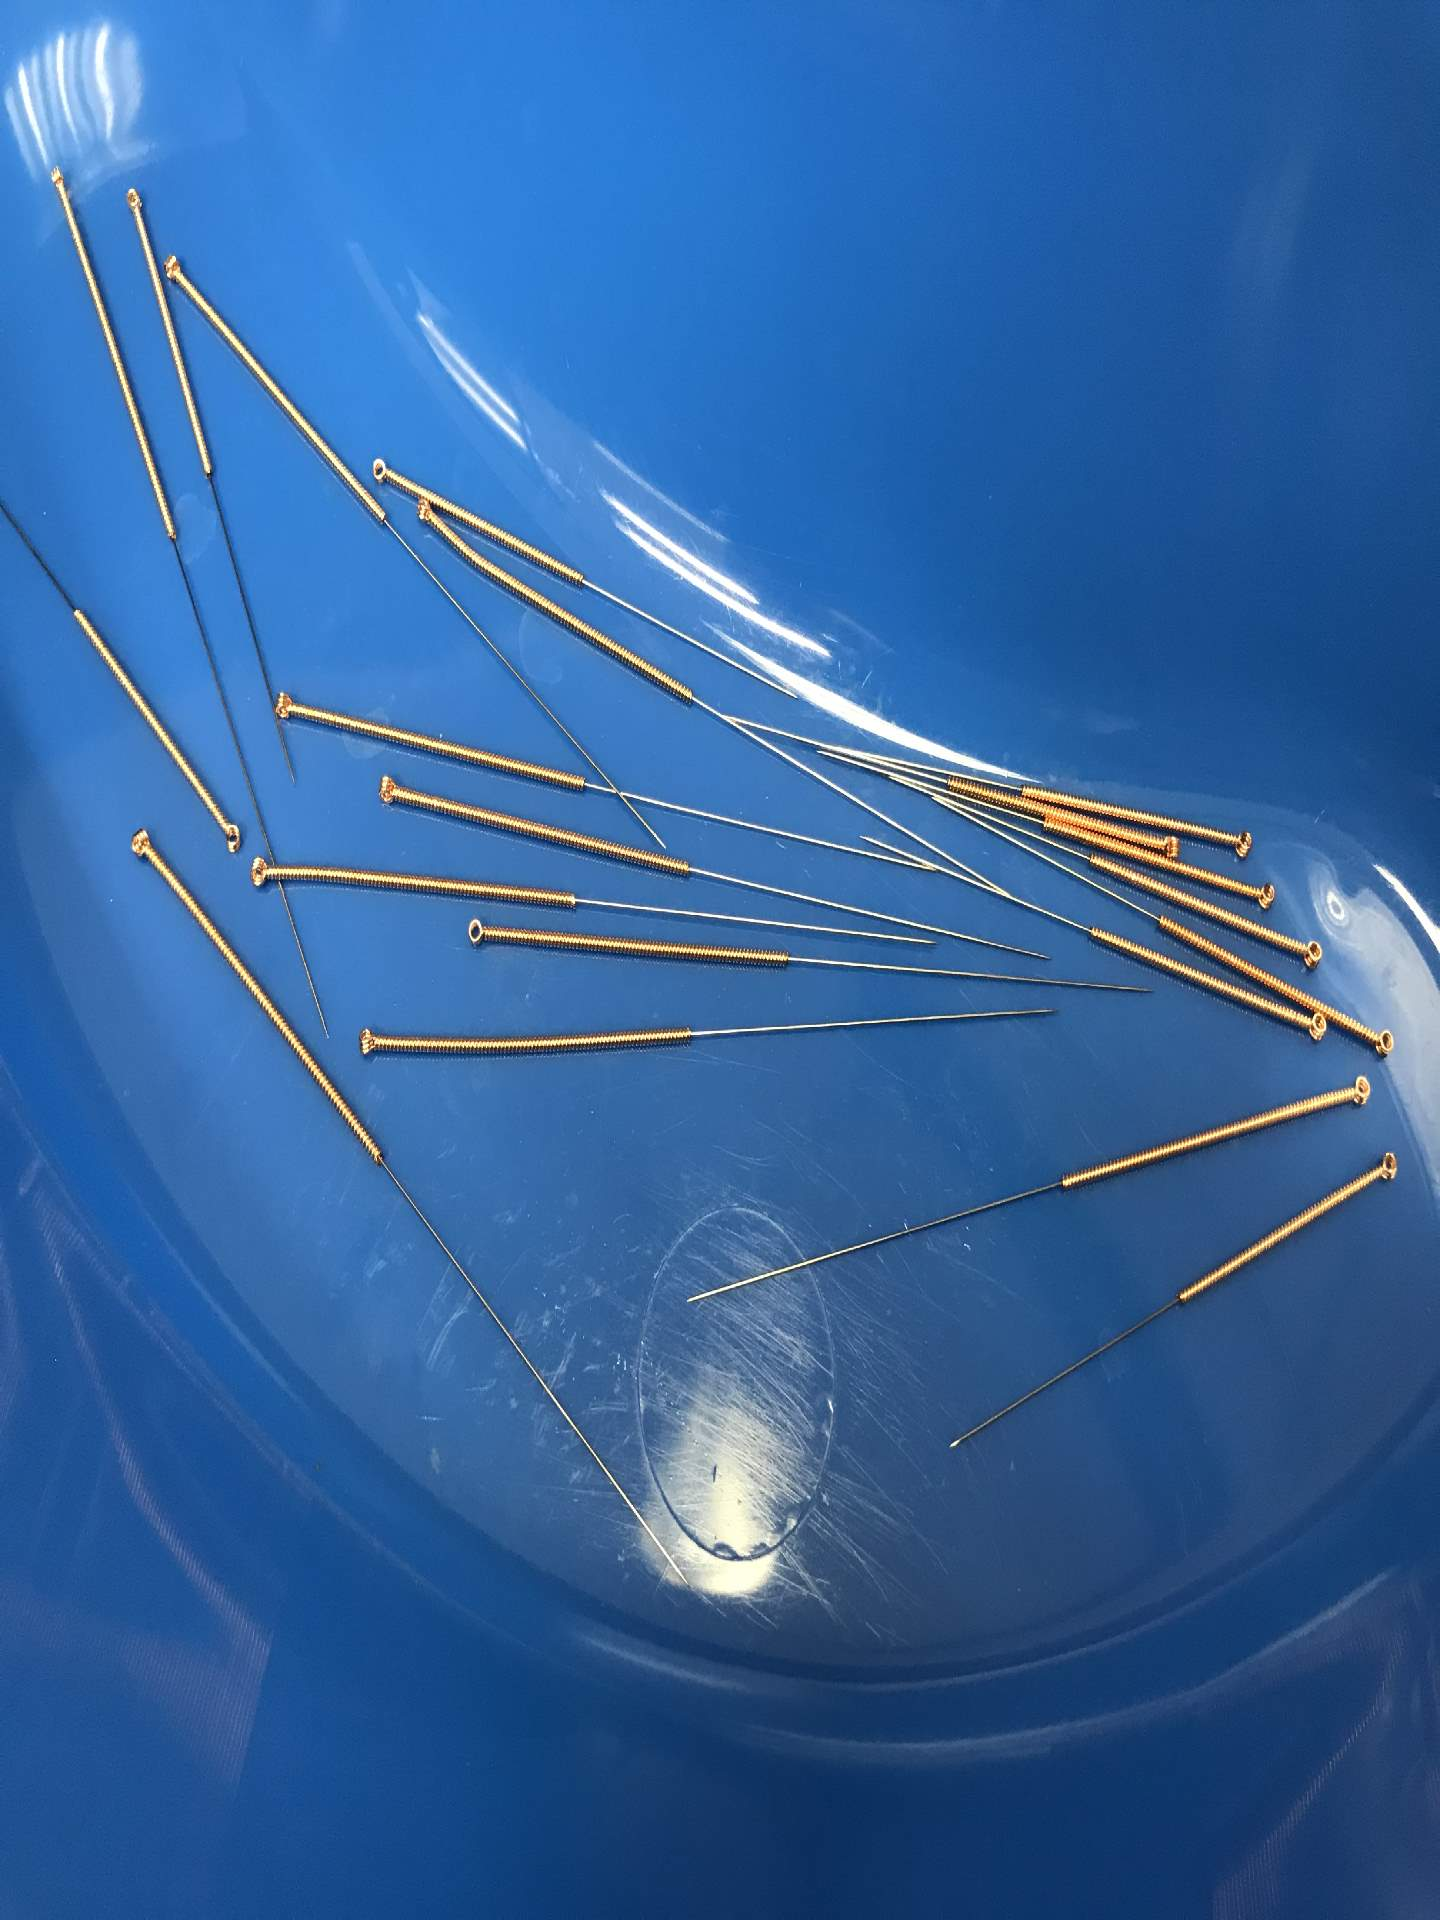needle: (455, 909, 501, 957), (121, 818, 162, 871), (366, 766, 410, 815), (237, 851, 284, 895), (346, 1019, 390, 1066), (1337, 1066, 1381, 1113), (265, 685, 307, 732), (1364, 1141, 1405, 1188), (1289, 1007, 1333, 1049), (1290, 931, 1331, 977), (210, 809, 250, 856), (1222, 819, 1262, 865), (1364, 1019, 1404, 1061), (1246, 872, 1286, 915), (157, 246, 194, 290), (41, 160, 73, 206), (363, 449, 398, 488), (116, 181, 148, 222), (405, 494, 440, 531), (1154, 828, 1187, 863)
